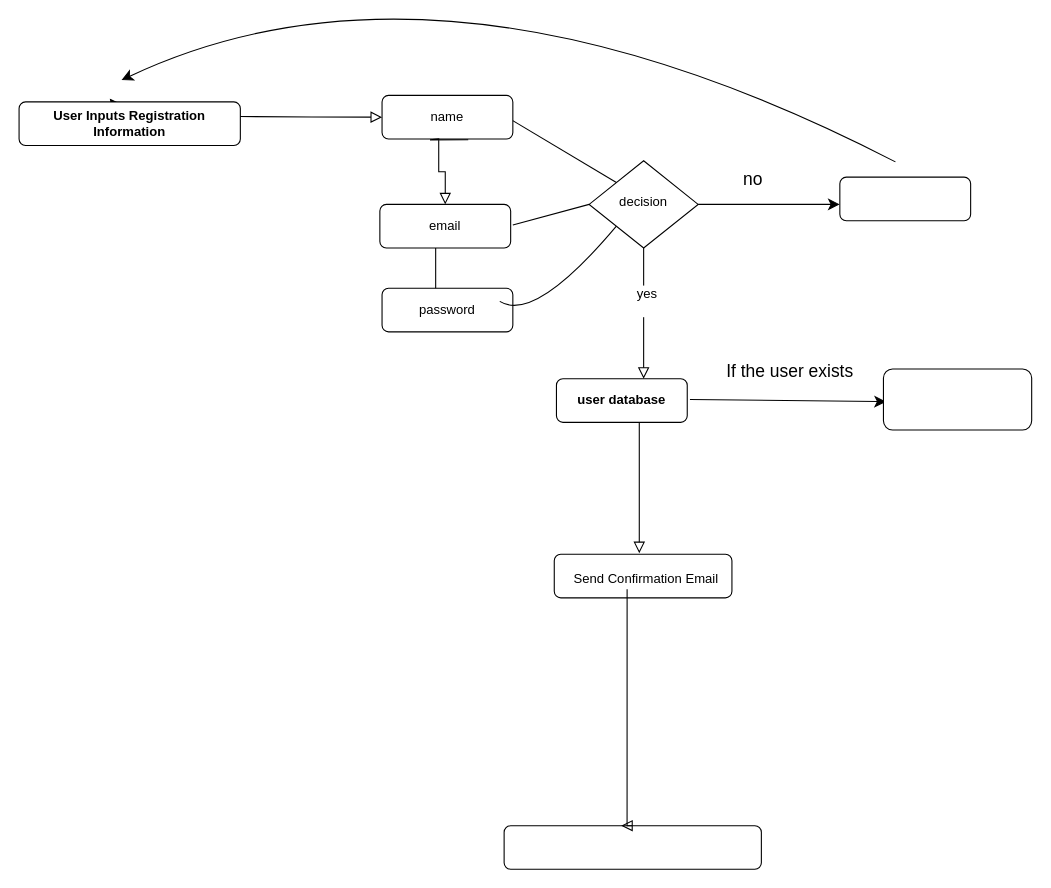
Image size: 1051x888. Some labels were removed from this diagram. The box of each missing label's shape, as (x1, y1, x2, y2) in pixels:
Input Invalid: (839, 176, 971, 221)
message User Exists: (882, 368, 1032, 430)
User Registered: (503, 825, 761, 869)
